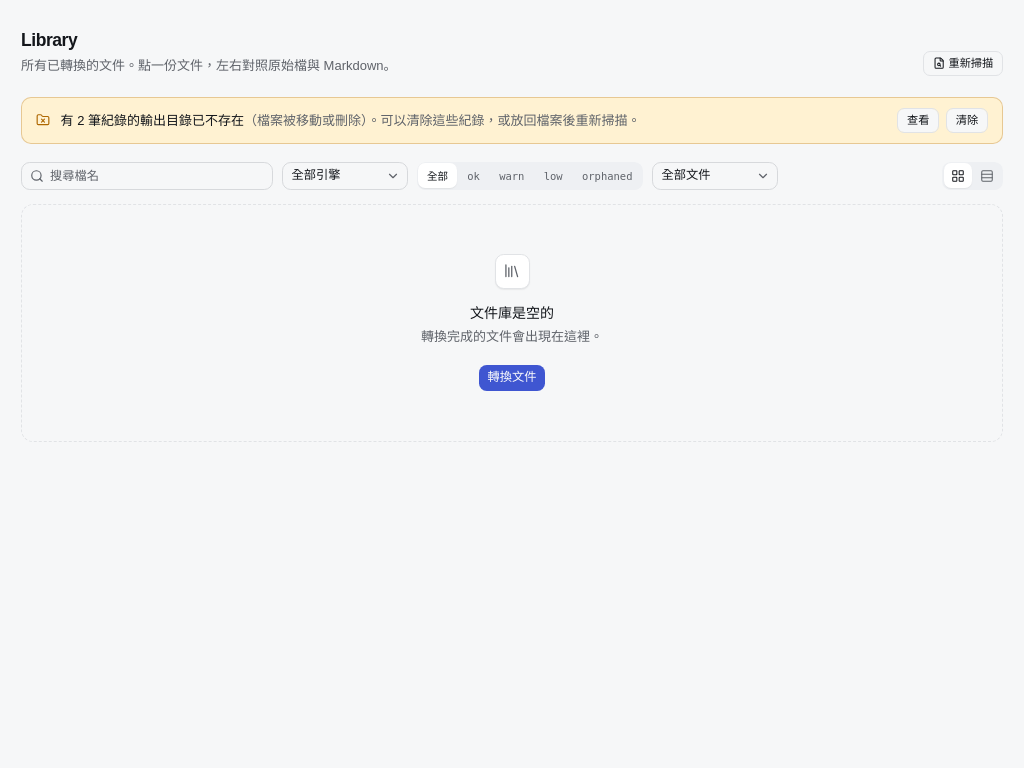
it: 清除 opens the confirmation; only 清除 inside it deletes
The image size is (1024, 768).
Later steps or results of the test are not shown.
Click the button "清除" at (967, 120), box [946,108,988,132]
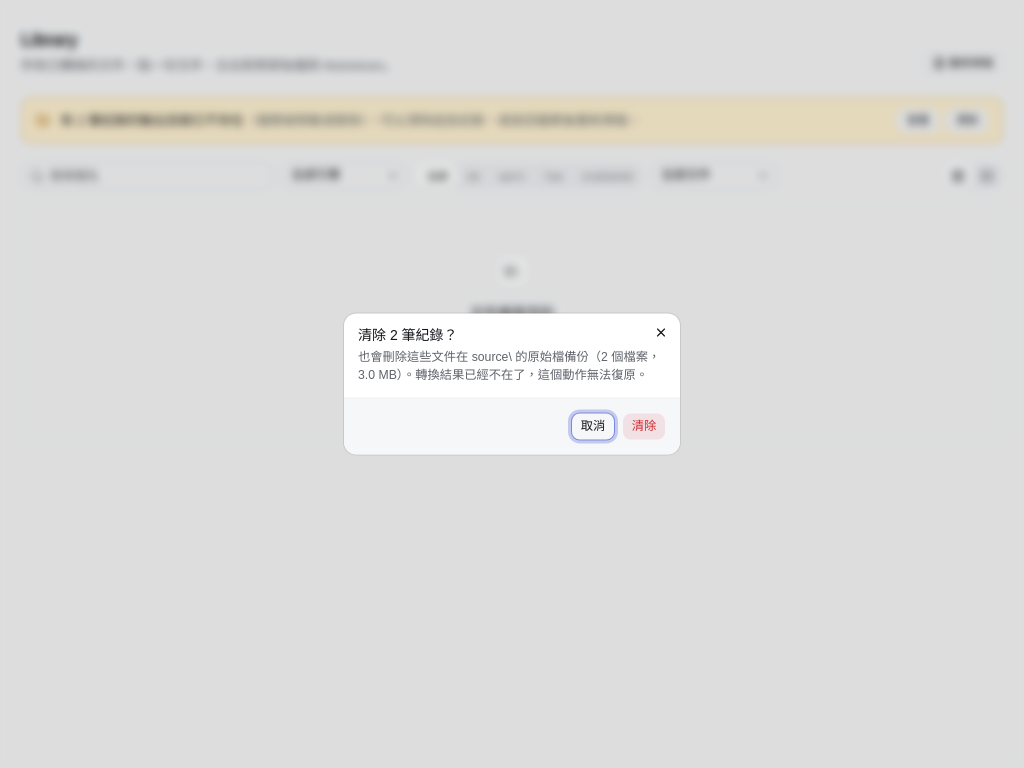
Expected: the dialog with test id "confirm-purge" shows "清除 2 筆紀錄？", [358,326,458,342]
Expected: the dialog with test id "confirm-purge" shows "也會刪除這些文件在 source\\ 的原始檔備份（2 個檔案，3.0 MB）", [358,350,660,381]
